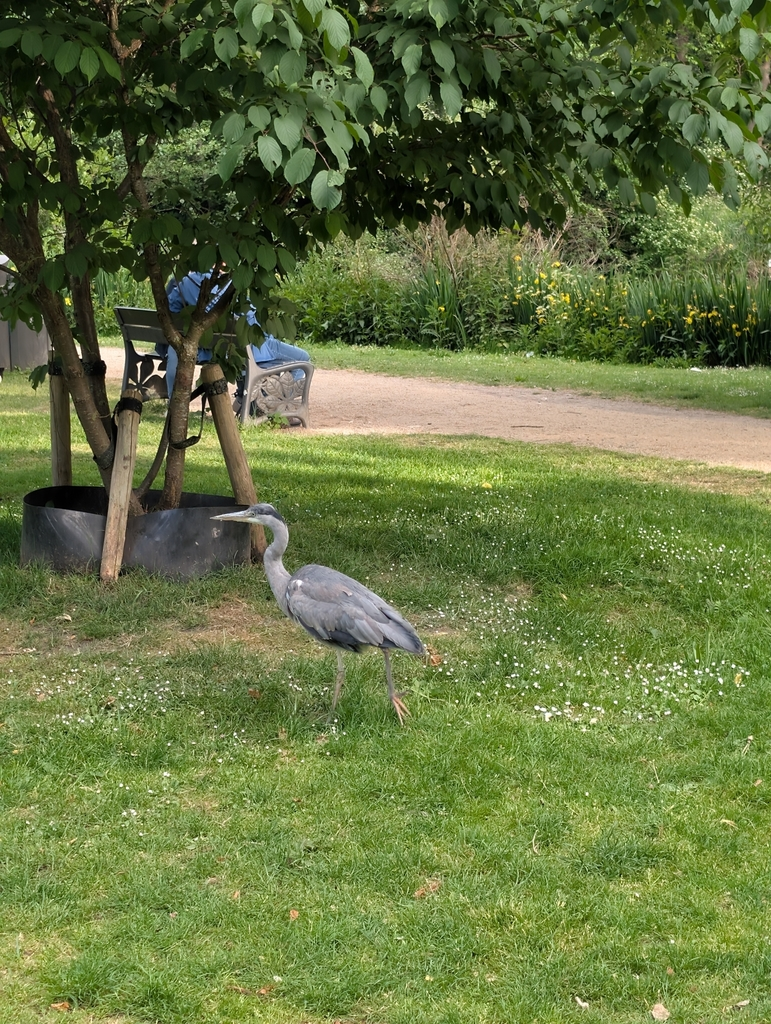heron: (196, 499, 432, 749)
